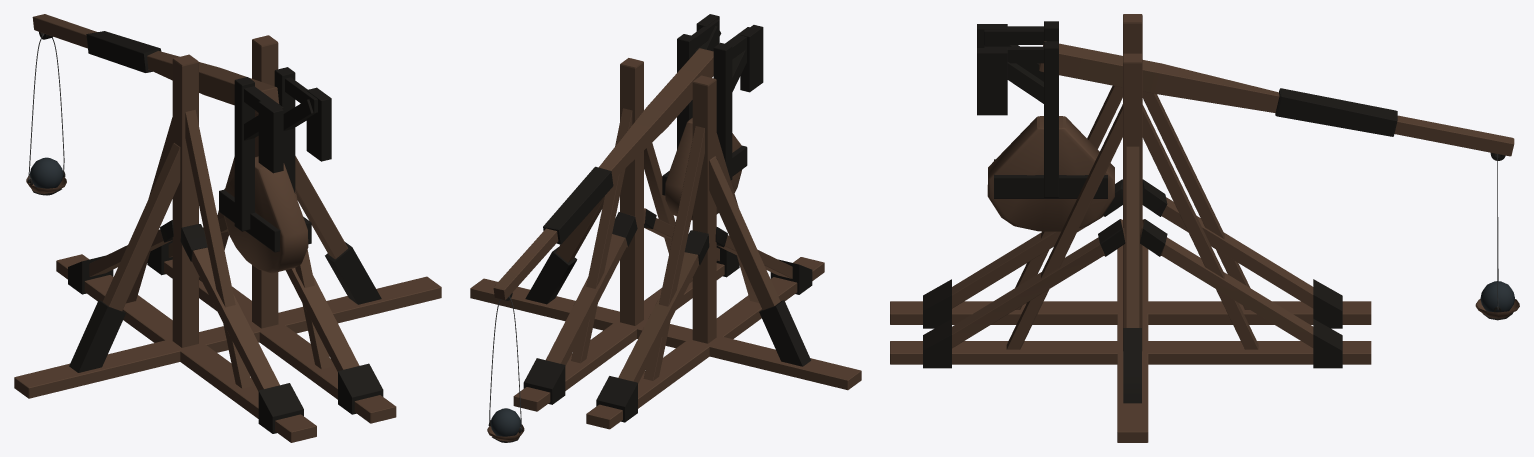
Rendered from Trebuchet.fbx.
The picture shows the model from 3 angles, left to right: view 1: azimuth 30°, elevation 25°; view 2: azimuth 150°, elevation 25°; view 3: azimuth 270°, elevation 25°; orthographic projection. The views are drawn at different scales.
Visible parts, largest first — view 1: Trebuchet; view 2: Trebuchet; view 3: Trebuchet.
Boxes of the visible parts, <box> form: Trebuchet: <box>14,14,441,442</box>; Trebuchet: <box>470,14,861,442</box>; Trebuchet: <box>890,14,1519,442</box>.
Bounding box in the file's own units: 12.03 × 8.31 × 15.5.
